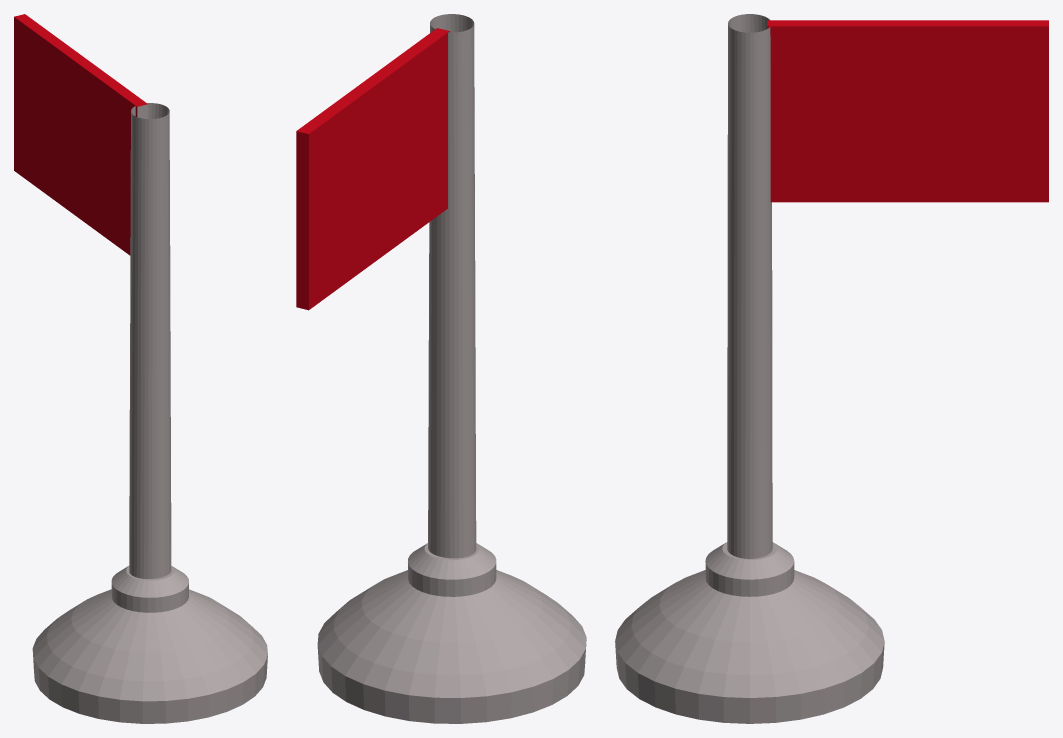
The model's file is checkpointred.fbx.
The picture shows the model from 3 angles, left to right: view 1: azimuth 30°, elevation 25°; view 2: azimuth 150°, elevation 25°; view 3: azimuth 270°, elevation 25°; orthographic projection. The views are drawn at different scales.
Parts seen in each view (by area): view 1: Cylinder; view 2: Cylinder; view 3: Cylinder.
Boxes of the visible parts, bbox=[...] form: Cylinder: bbox=[14, 14, 267, 723]; Cylinder: bbox=[296, 14, 586, 723]; Cylinder: bbox=[615, 14, 1048, 723].
Size of the model in its own units: 146 by 385 by 235.
